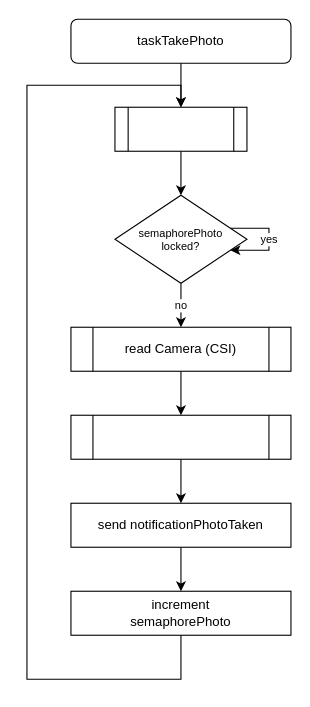
Some shapes in this 310 by 707 pixel diagram are drawn without their labels. The centre of each missing label's shape, as x and y in pixels:
"delay 1day" belongs at [180,128].
"send raw photo to photoBuffer" belongs at [180,436].
